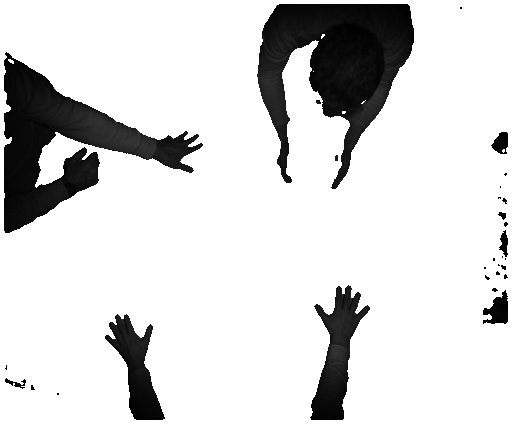fist: (63, 149, 107, 193)
hand: (312, 280, 375, 339), (104, 312, 159, 365), (162, 128, 207, 175)
spine: (333, 150, 359, 191), (272, 139, 295, 183)
